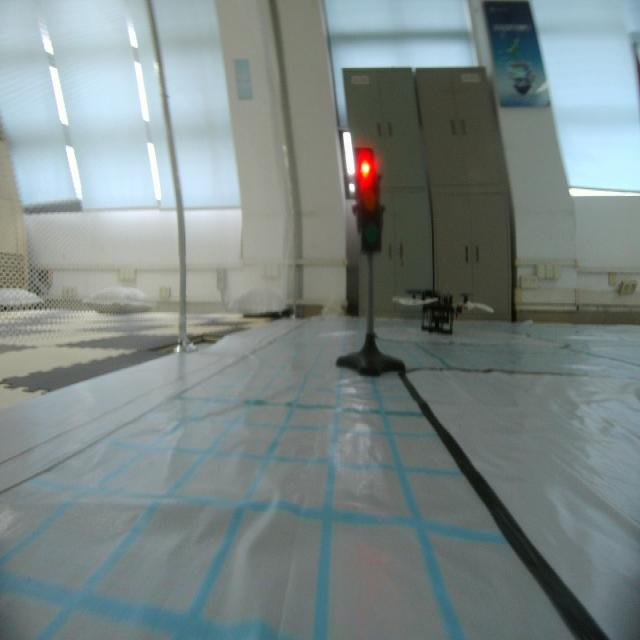red: (349, 141, 389, 260)
